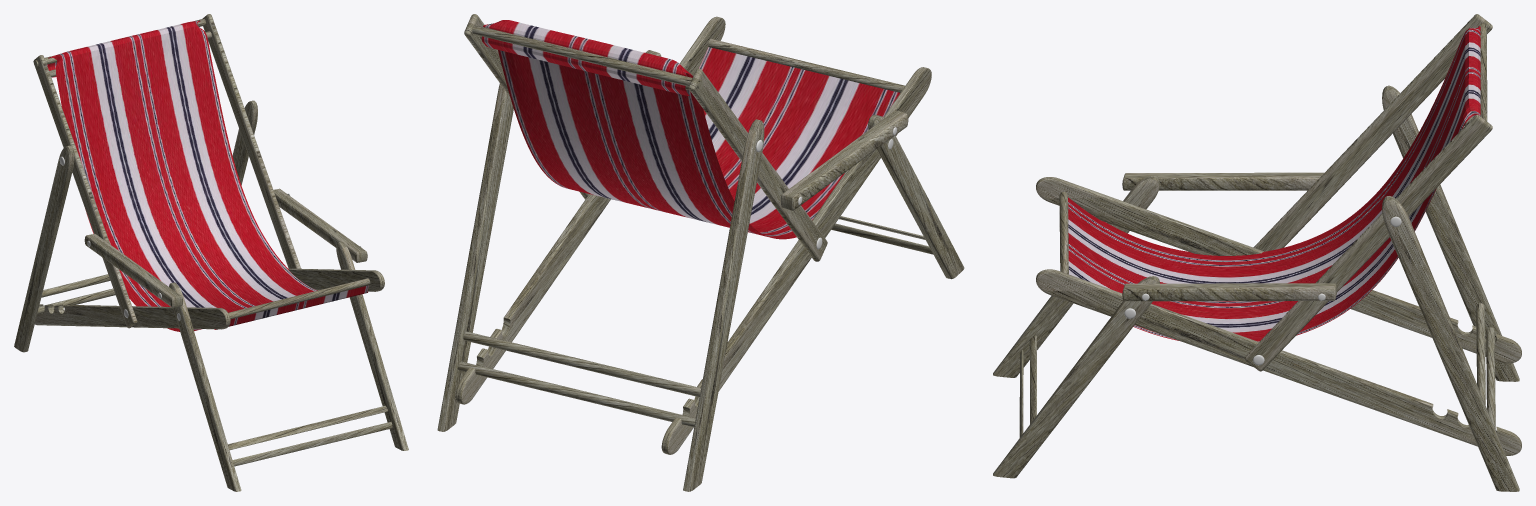
The model's file is obj_lazy_deck_chair_3e6b91.glb.
3 renders of one model, left to right at view 1: azimuth 30°, elevation 25°; view 2: azimuth 150°, elevation 25°; view 3: azimuth 270°, elevation 25°, orthographic. The views are drawn at different scales.
Parts seen in each view (by area): view 1: obj_lazy_deck_chair_3e6b91; view 2: obj_lazy_deck_chair_3e6b91; view 3: obj_lazy_deck_chair_3e6b91.
Part boxes in pixels (x1=…): obj_lazy_deck_chair_3e6b91: x1=14, y1=14, x2=408, y2=491; obj_lazy_deck_chair_3e6b91: x1=437, y1=14, x2=964, y2=491; obj_lazy_deck_chair_3e6b91: x1=993, y1=14, x2=1521, y2=491.
Size of the model in its own units: 0.803 by 1.16 by 1.5.
3 materials, 2 textured.
